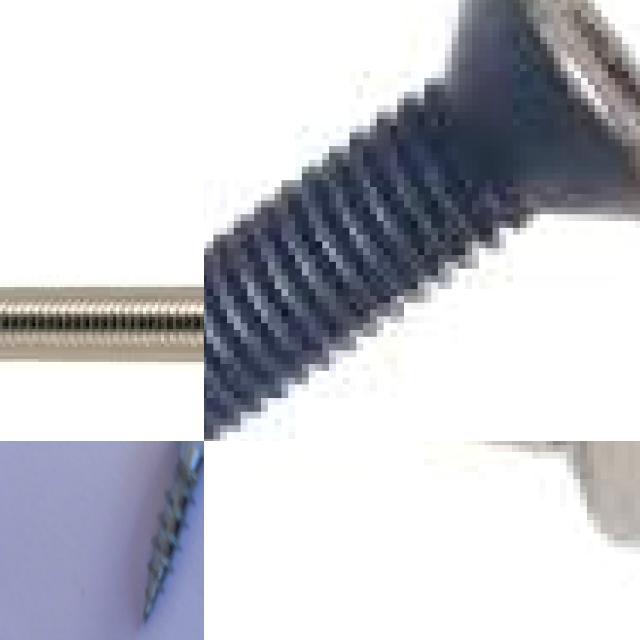Screw: (204, 0, 640, 441), (0, 287, 204, 365), (143, 441, 204, 621)
